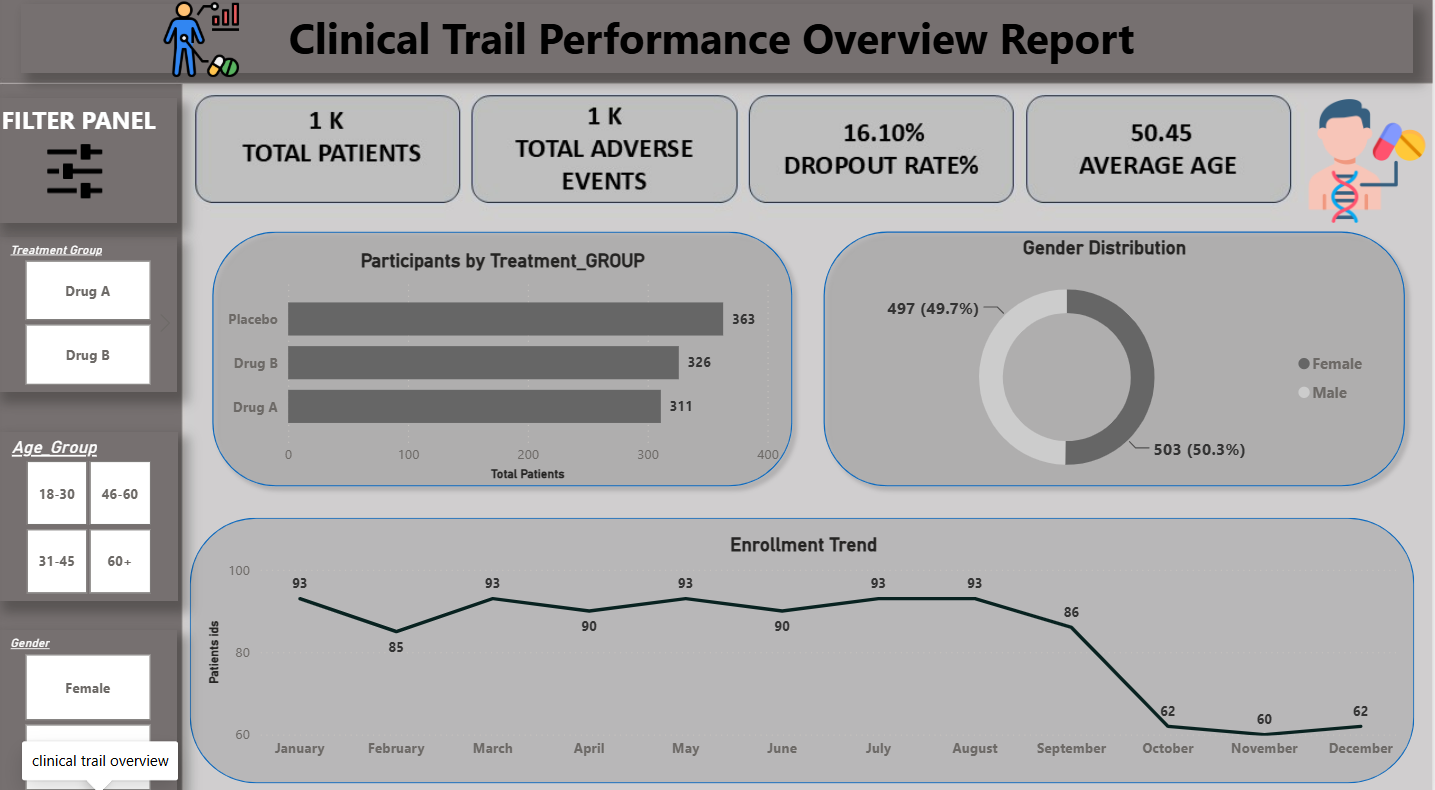

What the dashboard file says about the page in this screenshot:
{"tool":"powerbi","page":{"name":"clinical trail overview","canvas":[1280,720],"ordinal":0},"visuals":[{"type":"shape","box":[183.4,207.5,534.5,244.9],"z":0},{"type":"shape","box":[727.5,207.5,535.7,244.9],"z":1000},{"type":"shape","box":[172.5,470.5,1090.6,236.5],"z":2000},{"type":"clusteredBarChart","title":"Participants by Treatment_GROUP","fields":{"Category":["data.Treatment_Group"],"Y":["CountNonNull(data.Subject_ID)"]},"box":[200.3,231.6,501.9,211.1],"z":3000},{"type":"donutChart","title":" Gender Distribution","fields":{"Category":["data.Gender"],"Y":["CountNonNull(data.Subject_ID)"]},"box":[743.2,220.8,487.4,231.6],"z":4000},{"type":"lineChart","title":"Enrollment Trend","fields":{"Category":["data.Enrollment_Date.Variation.Date Hierarchy.Month","data.Enrollment_Date.Variation.Date Hierarchy.Day"],"Y":["CountNonNull(data.Patient_ID)"]},"box":[183.4,483.8,1071.3,209.9],"z":5000},{"type":"slicer","fields":{"Values":["data.Gender"]},"box":[0,570.6,161.7,149.6],"z":6000},{"type":"slicer","fields":{"Values":["data.Age_Group"]},"box":[1.2,394.5,160.5,150.8],"z":7000},{"type":"slicer","fields":{"Values":["data.Treatment_Group"]},"box":[0,220.8,161.7,138.7],"z":8000},{"type":"textbox","box":[0,96.5,161.7,111],"z":9000},{"type":"textbox","box":[21.7,13.3,1240.2,61.5],"z":10000},{"type":"image","box":[113.4,9.7,138.7,70],"z":11000},{"type":"image","box":[13.3,135.1,113.4,55.5],"z":12000},{"type":"image","box":[1162.5,97.5,117.5,110],"z":13000}]}

Visuals, with their boxes in screenshot pixels (x1, y1, x2, y2), scaled from the page's 1280x720 canvas onto the 1435x790 screenshot:
shape: <box>206,228,805,496</box>
shape: <box>816,228,1416,496</box>
shape: <box>193,516,1416,776</box>
"Participants by Treatment_GROUP" clusteredBarChart: <box>225,254,787,486</box>
" Gender Distribution" donutChart: <box>833,242,1380,496</box>
"Enrollment Trend" lineChart: <box>206,531,1407,761</box>
slicer - data.Gender: <box>0,626,181,789</box>
slicer - data.Age_Group: <box>1,433,181,598</box>
slicer - data.Treatment_Group: <box>0,242,181,394</box>
textbox: <box>0,106,181,228</box>
textbox: <box>24,15,1415,82</box>
image: <box>127,11,283,87</box>
image: <box>15,148,142,209</box>
image: <box>1303,107,1434,228</box>
